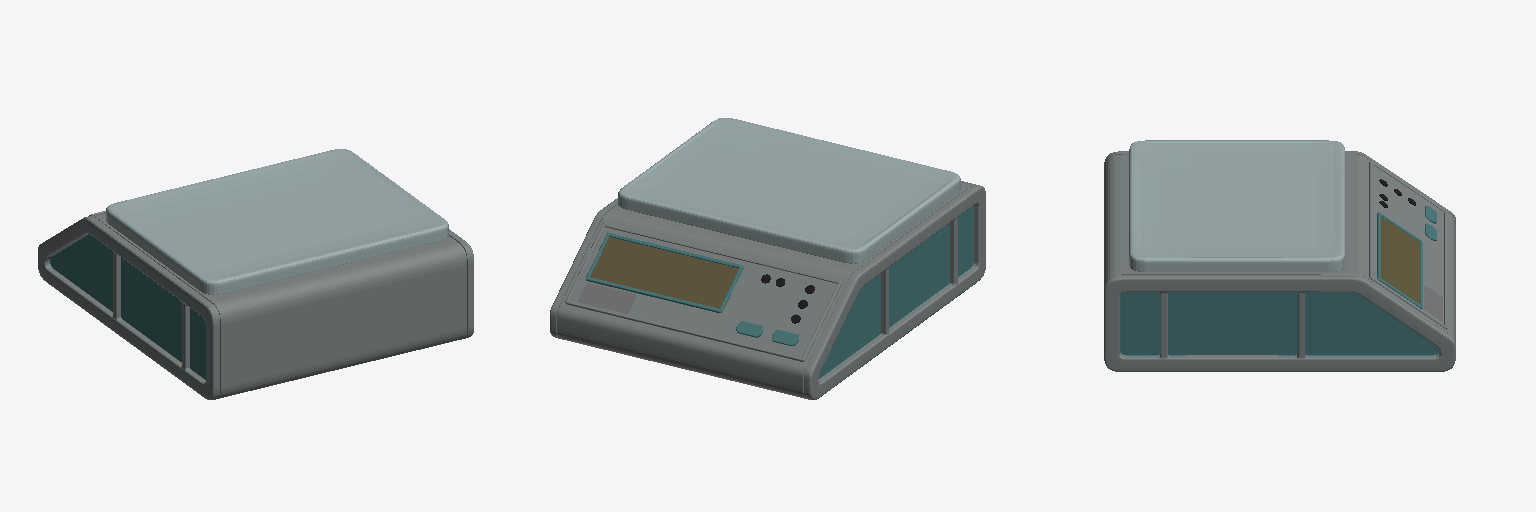
File: digital_weight.obj
3 views of the same model, side by side, from view 1: azimuth 30°, elevation 25°; view 2: azimuth 150°, elevation 25°; view 3: azimuth 270°, elevation 25° (orthographic).
Visible parts, largest first — view 1: Digital_wi_0; view 2: Digital_wi_0; view 3: Digital_wi_0.
Part boxes in pixels (x1,y1,x2,y2): Digital_wi_0: (38,149,473,399); Digital_wi_0: (550,118,985,399); Digital_wi_0: (1104,140,1455,371).
Bounding box in the file's own units: 23.22 × 9.6 × 27.02.